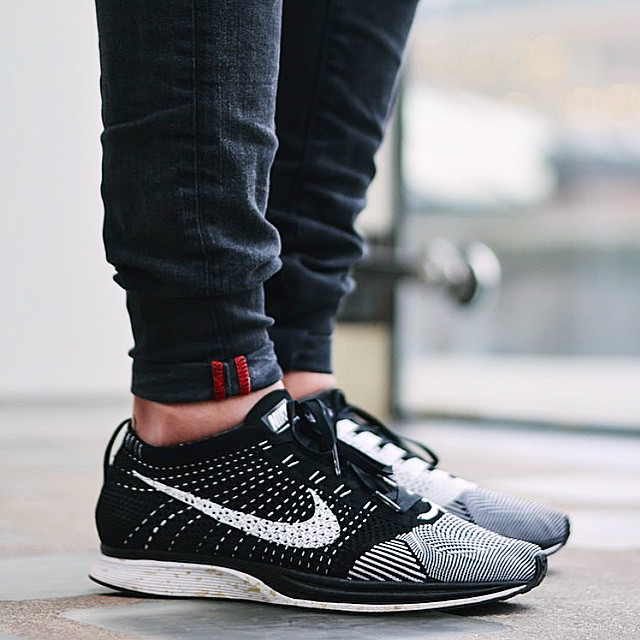sneaker: (59, 365, 563, 621), (269, 363, 589, 570)
